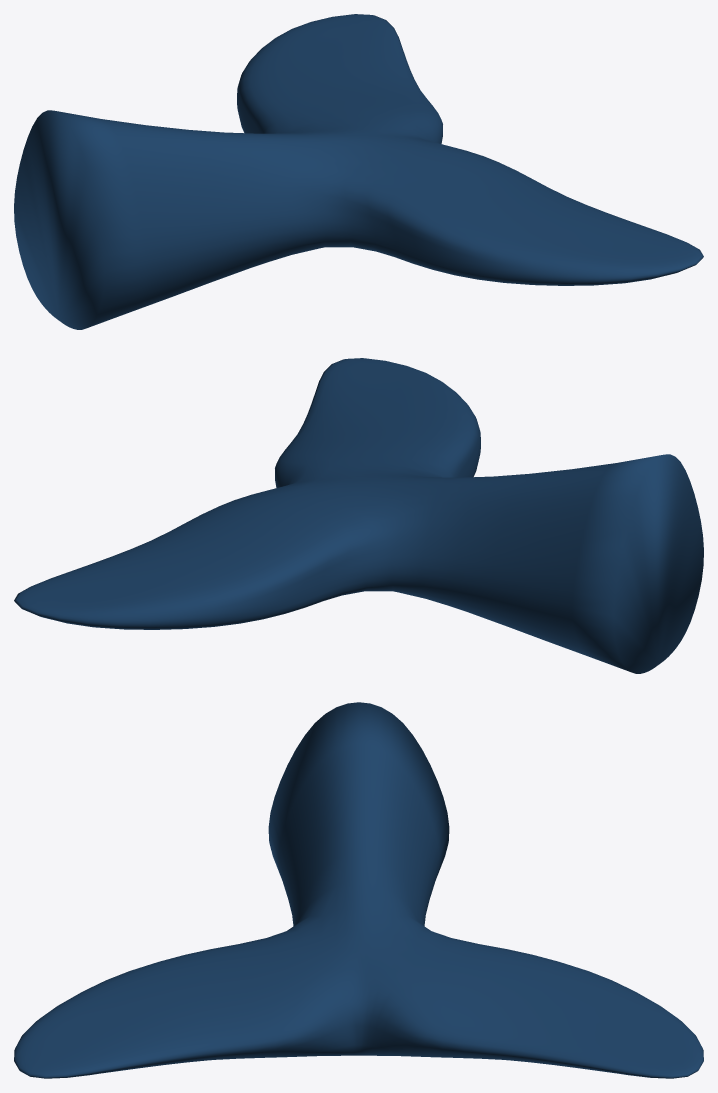
File: ballenaLabbon_cola.obj
3 renders of one model, top to bottom at view 1: azimuth 30°, elevation 25°; view 2: azimuth 150°, elevation 25°; view 3: azimuth 270°, elevation 25°, orthographic.
Parts seen in each view (by area): view 1: Laboon; view 2: Laboon; view 3: Laboon.
Boxes of the visible parts, left/top/right/bottom form: Laboon: left=14, top=14, right=703, bottom=329; Laboon: left=14, top=358, right=703, bottom=673; Laboon: left=14, top=702, right=703, bottom=1078.
Bounding box in the file's own units: 25.65 × 10.5 × 31.71.
1 material, 1 textured.
